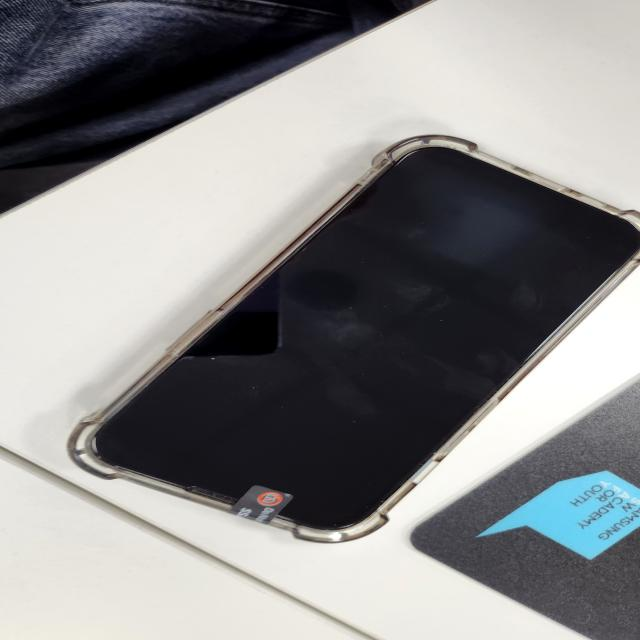phone: (65, 130, 640, 546)
sticker: (227, 485, 296, 525)
